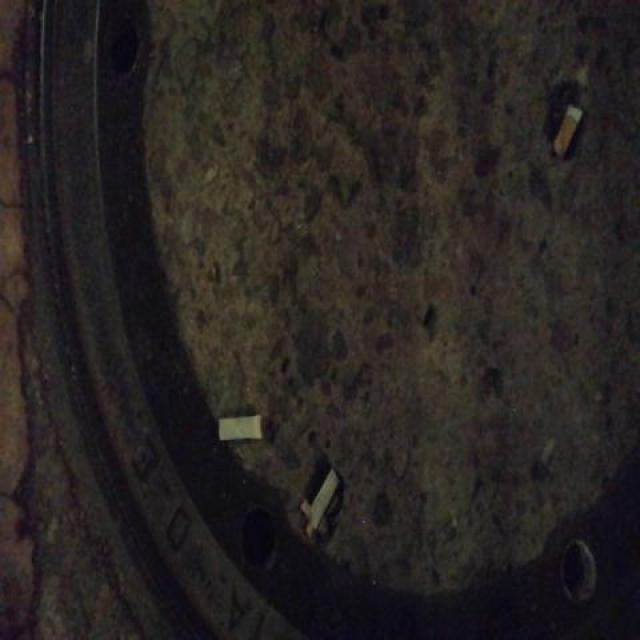non-organic waste: (307, 463, 346, 534), (550, 101, 586, 162), (213, 414, 267, 442)
